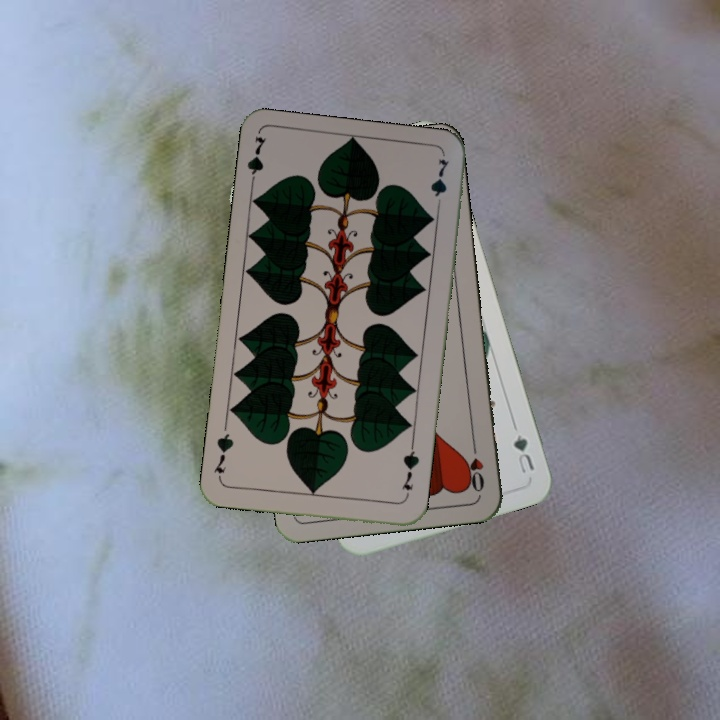G7: (243, 133, 269, 192), (398, 443, 422, 493)
GU: (509, 430, 537, 476)
HO: (463, 437, 487, 495)
